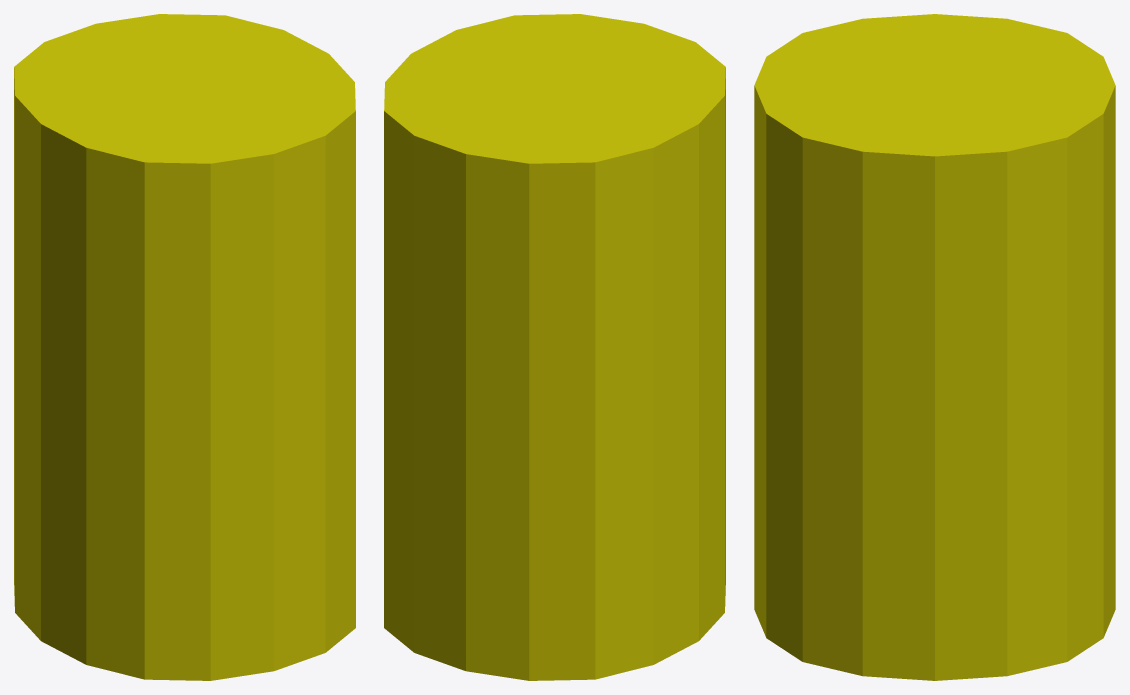
Rendered from yellow_cone.dae.
3 views of the same model, side by side, from view 1: azimuth 30°, elevation 25°; view 2: azimuth 150°, elevation 25°; view 3: azimuth 270°, elevation 25° (orthographic).
Visible parts, largest first — view 1: Plane; view 2: Plane; view 3: Plane.
Part boxes in pixels (x1=…): Plane: x1=14, y1=14, x2=355, y2=680; Plane: x1=384, y1=14, x2=725, y2=680; Plane: x1=754, y1=14, x2=1115, y2=680.
Size of the model in its own units: 0.6562 by 0.7031 by 1.13.
